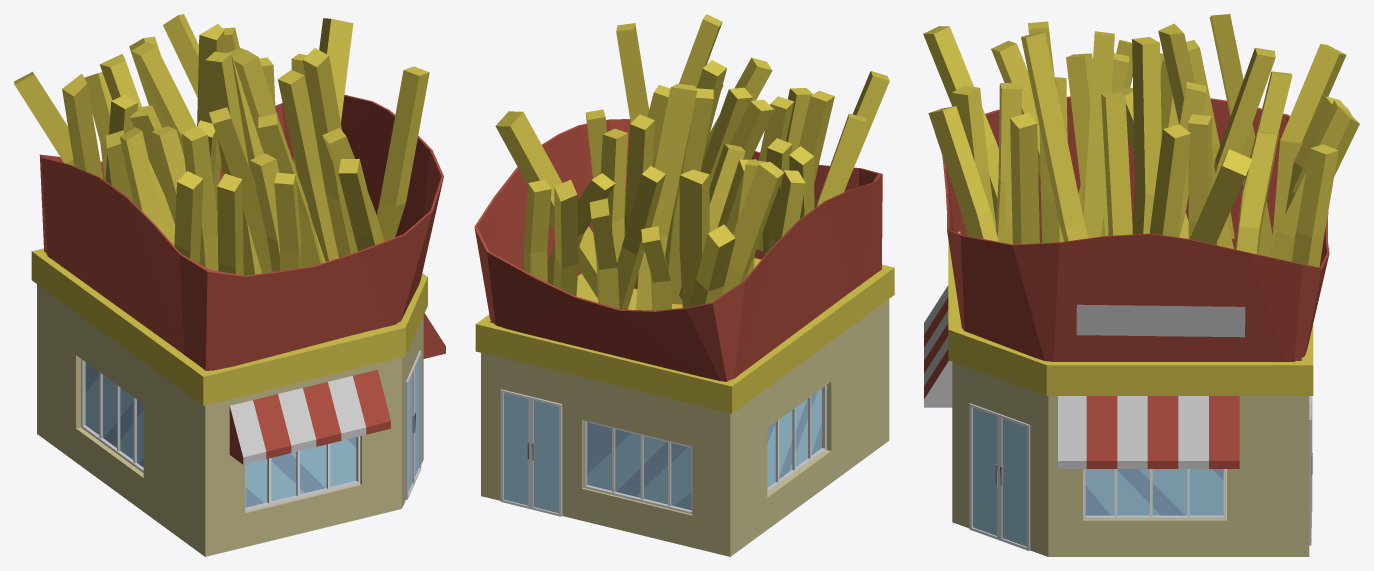
The model's file is cafe_003.glb.
3 renders of one model, left to right at view 1: azimuth 30°, elevation 25°; view 2: azimuth 150°, elevation 25°; view 3: azimuth 270°, elevation 25°, orthographic. The views are drawn at different scales.
Visible parts, largest first — view 1: cafe_003; view 2: cafe_003; view 3: cafe_003.
Boxes of the visible parts, left/top/right/bottom form: cafe_003: left=14, top=14, right=445, bottom=556; cafe_003: left=474, top=14, right=894, bottom=556; cafe_003: left=923, top=14, right=1359, bottom=556.
Bounding box in the file's own units: 5.85 × 8.07 × 6.84.
1 material, 1 textured.
